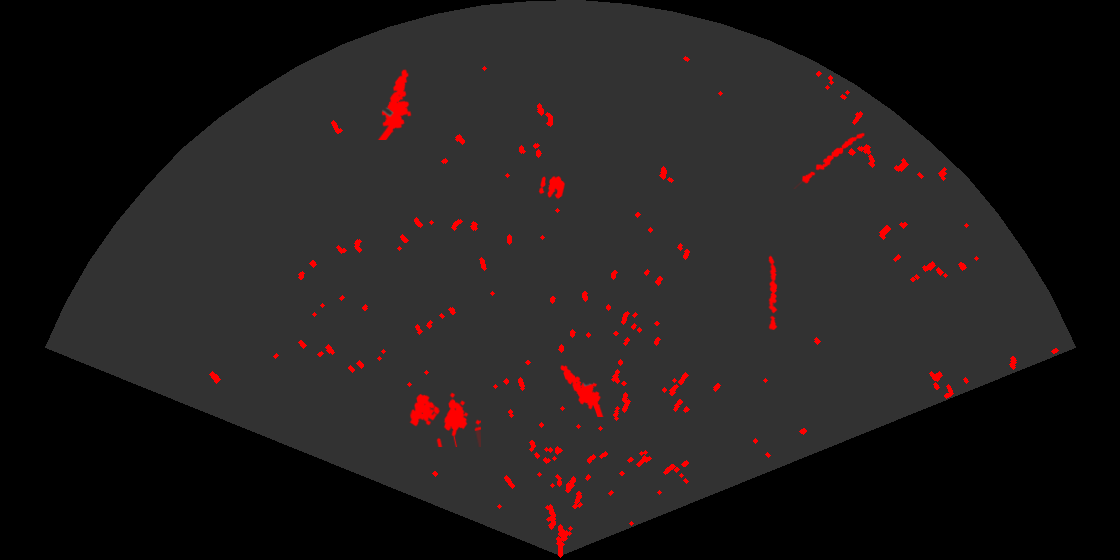ball: (537, 174, 567, 201)
cage: (408, 391, 481, 447)
chain: (792, 131, 866, 189), (767, 254, 779, 330)
frogman: (376, 68, 413, 140), (559, 363, 605, 417)
